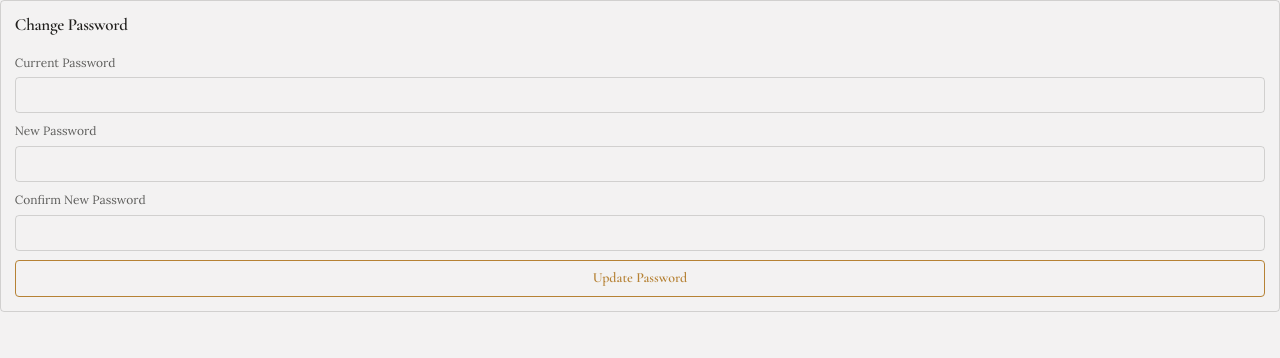
Test: ChangePasswordForm › requires all fields
What coordinates should you click on to do the following:
click the button "Update Password"
I would click on:
 (640, 278)
Its box is [15, 260, 1265, 297].
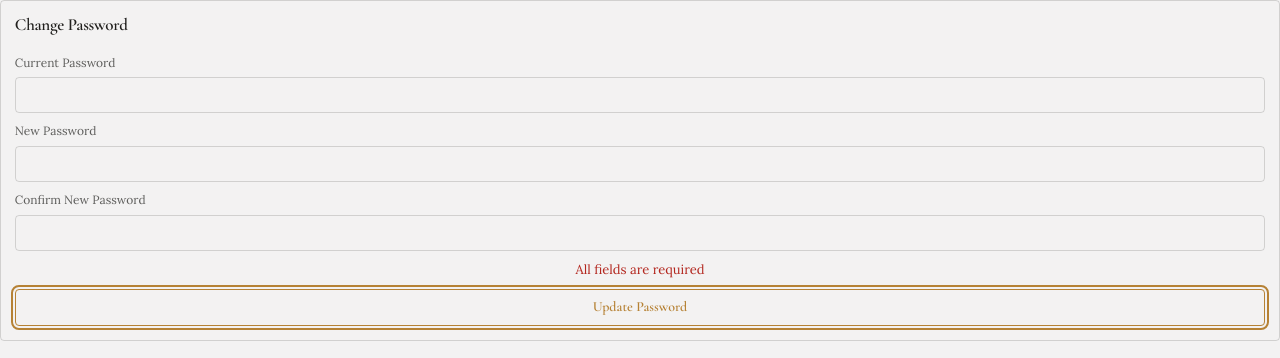
Expected: the text "All fields are required" is shown, [576, 261, 704, 278]
